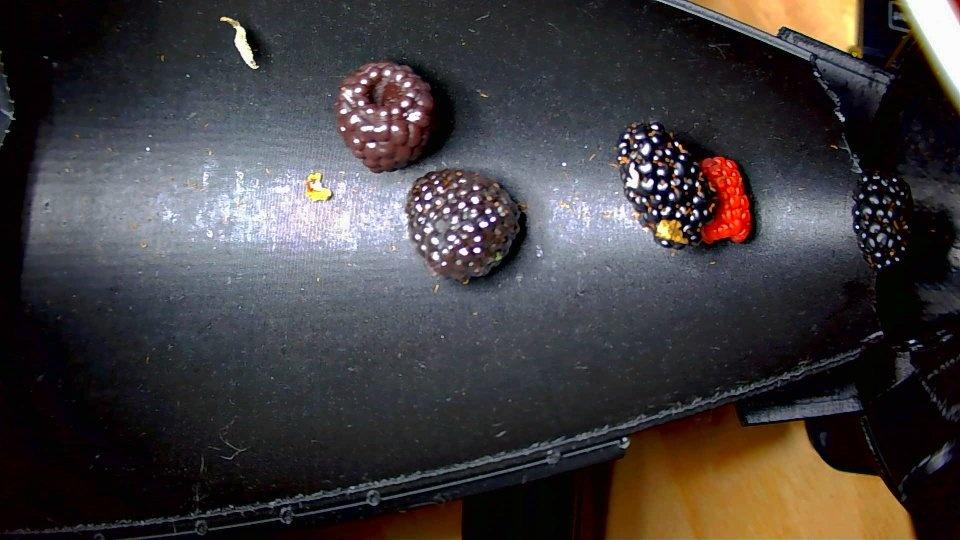berry: (406, 169, 520, 280), (617, 122, 716, 248), (336, 61, 433, 171), (853, 175, 912, 269), (701, 156, 752, 243)
